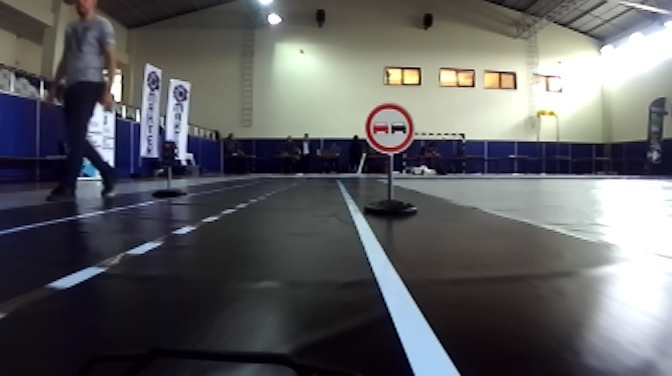sollama_yasak: (365, 103, 414, 154)
